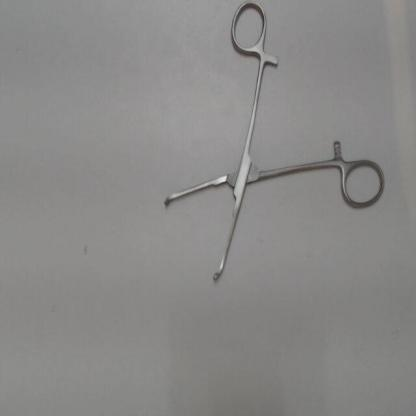Allis Tissue Forceps: (157, 0, 391, 290)
